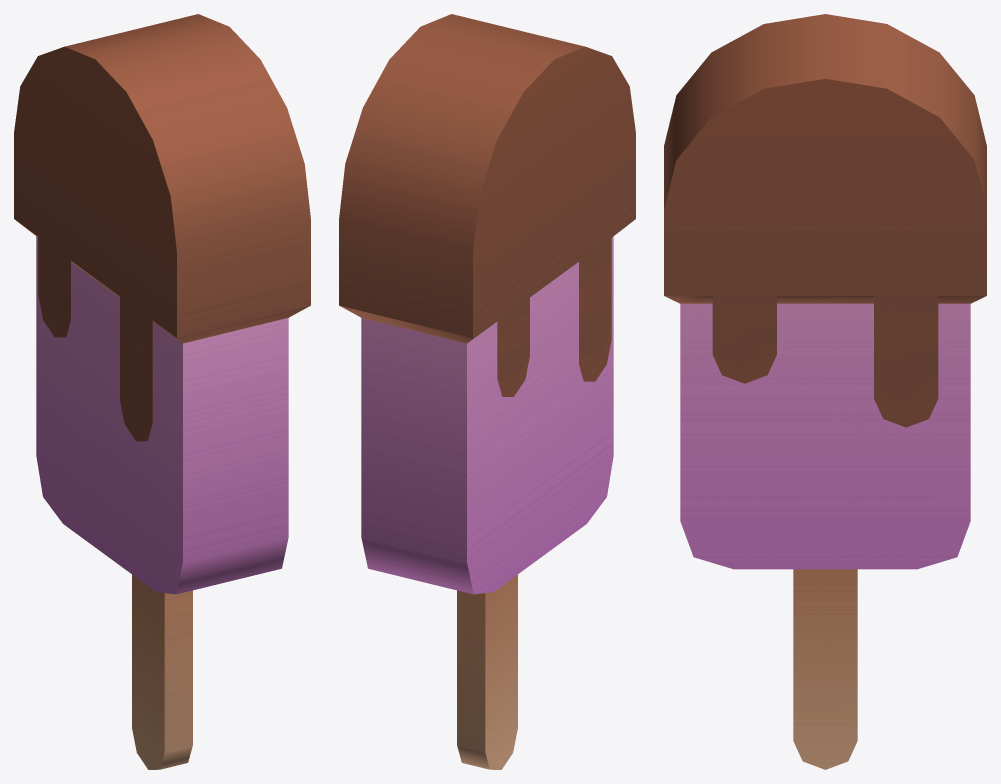
Rendered from popsicle-chocolate.glb.
3 renders of one model, left to right at view 1: azimuth 30°, elevation 25°; view 2: azimuth 150°, elevation 25°; view 3: azimuth 270°, elevation 25°, orthographic.
Visible parts, largest first — view 1: popsicle-chocolate; view 2: popsicle-chocolate; view 3: popsicle-chocolate.
Part boxes in pixels (box(x1,y1,x2,y2)): popsicle-chocolate: box(14, 14, 310, 769); popsicle-chocolate: box(339, 14, 635, 769); popsicle-chocolate: box(664, 14, 986, 769).
Bounding box in the file's own units: 0.095 × 0.49 × 0.2.
Materials: 1 (1 with a texture image).
